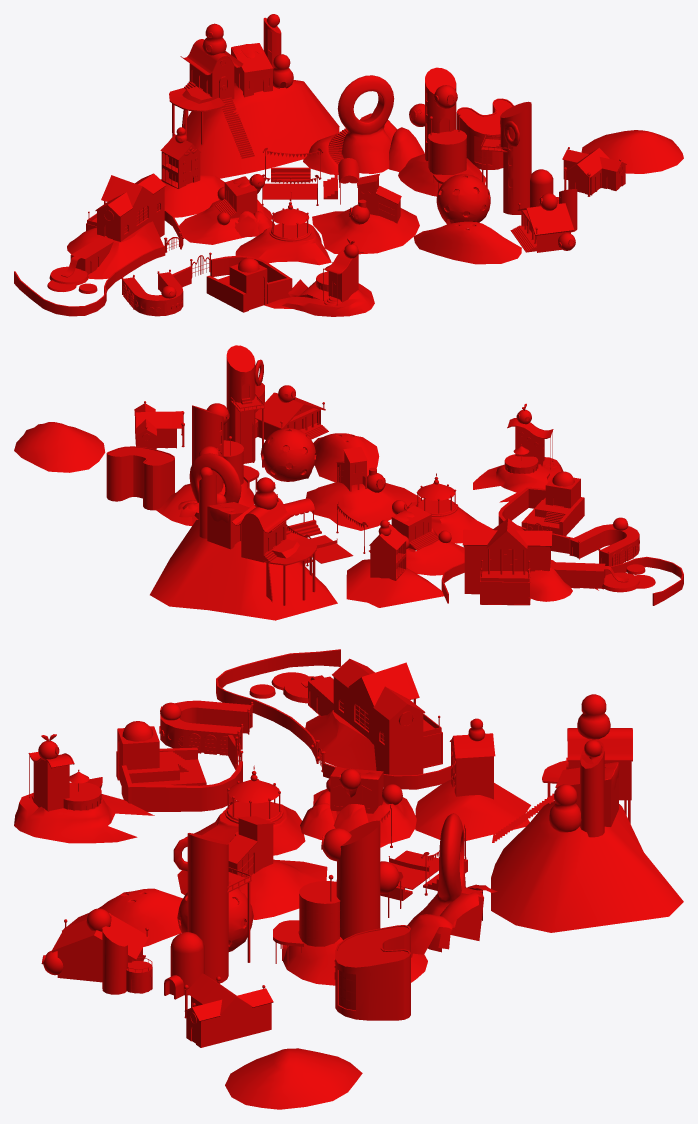
File: Neighborhood_BeverlyChills_Locked_03.glb
The picture shows the model from 3 angles, top to bottom: view 1: azimuth 30°, elevation 25°; view 2: azimuth 150°, elevation 25°; view 3: azimuth 270°, elevation 25°; orthographic projection. The views are drawn at different scales.
Parts seen in each view (by area): view 1: Neighborhood_BeverlyChillsLocked_BEVERLYCHILLS_OBJECT_3; view 2: Neighborhood_BeverlyChillsLocked_BEVERLYCHILLS_OBJECT_3; view 3: Neighborhood_BeverlyChillsLocked_BEVERLYCHILLS_OBJECT_3.
Part boxes in pixels (box(x1,y1,x2,y2)): Neighborhood_BeverlyChillsLocked_BEVERLYCHILLS_OBJECT_3: box(14, 14, 683, 316); Neighborhood_BeverlyChillsLocked_BEVERLYCHILLS_OBJECT_3: box(14, 345, 683, 620); Neighborhood_BeverlyChillsLocked_BEVERLYCHILLS_OBJECT_3: box(14, 649, 683, 1109).
Bounding box in the file's own units: 98.44 × 18.65 × 63.6.
